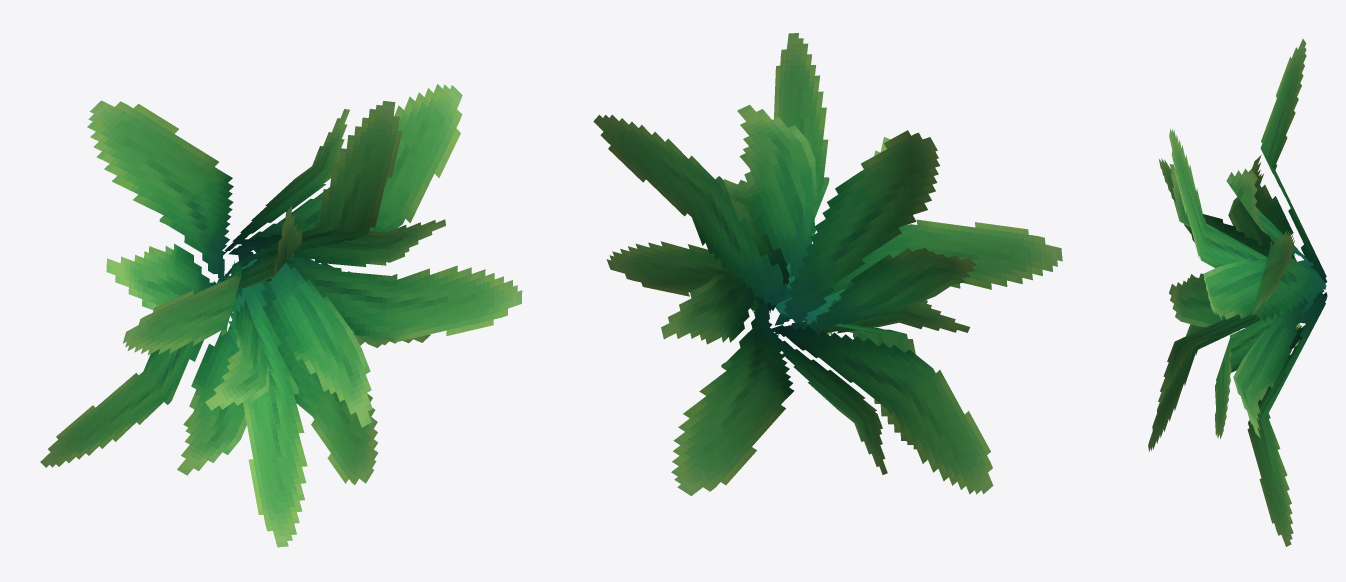
The model's file is shrub 1.glb.
The picture shows the model from 3 angles, left to right: view 1: azimuth 30°, elevation 25°; view 2: azimuth 150°, elevation 25°; view 3: azimuth 270°, elevation 25°; orthographic projection. The views are drawn at different scales.
Parts seen in each view (by area): view 1: rsrc.world.prop.natural.plants.shrub_1.model-Submesh[0]; view 2: rsrc.world.prop.natural.plants.shrub_1.model-Submesh[0]; view 3: rsrc.world.prop.natural.plants.shrub_1.model-Submesh[0].
Part boxes in pixels (bbox=[...]): rsrc.world.prop.natural.plants.shrub_1.model-Submesh[0]: bbox=[40, 84, 522, 547]; rsrc.world.prop.natural.plants.shrub_1.model-Submesh[0]: bbox=[593, 33, 1062, 495]; rsrc.world.prop.natural.plants.shrub_1.model-Submesh[0]: bbox=[1148, 39, 1327, 546].
Bounding box in the file's own units: 1.32 × 1.27 × 0.539.
Materials: 1 (1 with a texture image).
